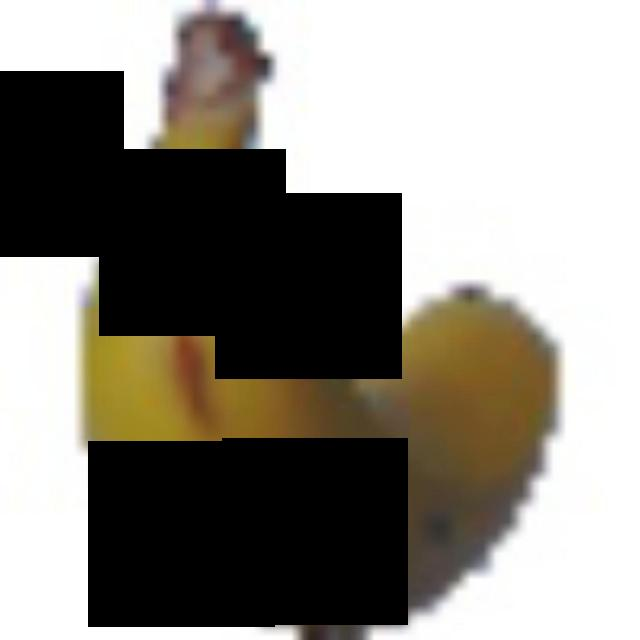banana: (58, 1, 560, 640)
